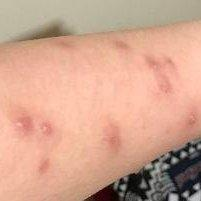Fleas: (144, 56, 174, 94), (102, 125, 121, 152), (110, 39, 136, 56), (32, 154, 54, 174), (36, 120, 56, 140), (10, 113, 29, 134), (187, 112, 195, 125)
